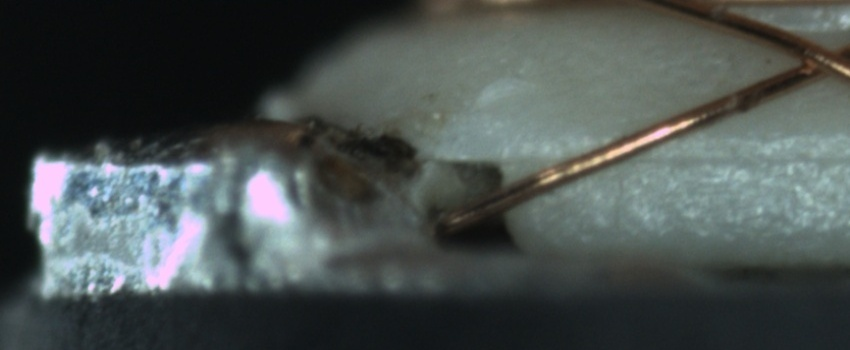CL: (776, 29, 847, 87)
DL: (546, 126, 850, 186)
